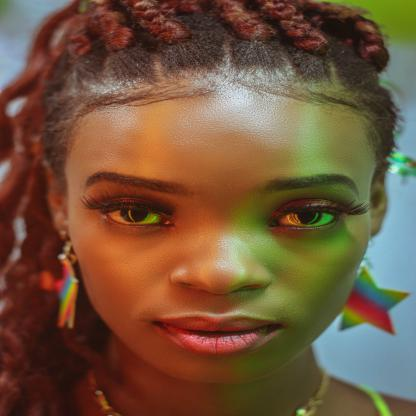Eye: (82, 192, 178, 228), (268, 196, 355, 230)
Mouth: (151, 314, 285, 356)
Nose: (170, 221, 272, 294)
